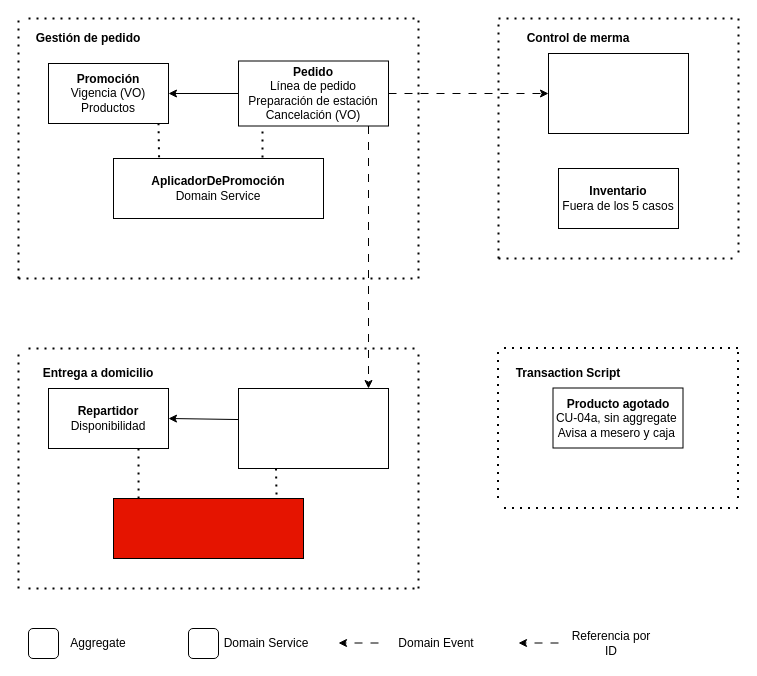
Image size: 757x676. Some labels were removed from this diagram. Each missing label, with the centre of its shape:
"AsignadorDeRepartidor Domain Service" goes at point (208, 528).
"Entrega Estado de la entrega Hora de salida y entrega Motivo de falla" goes at point (313, 428).
"Merma Origen: pedido cancelado Motivo y respondable" goes at point (618, 93).
